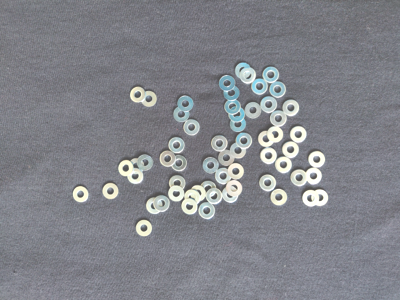circle: (135, 218, 153, 239), (127, 157, 146, 176), (271, 188, 290, 207), (258, 175, 278, 193), (177, 94, 195, 113), (172, 106, 191, 124), (145, 196, 163, 215), (301, 189, 319, 208), (290, 169, 308, 188), (304, 168, 323, 186), (307, 150, 326, 168), (141, 89, 158, 109), (183, 119, 201, 137), (127, 168, 145, 186), (198, 202, 216, 220), (235, 132, 253, 150), (289, 126, 307, 144), (269, 81, 287, 99), (137, 153, 154, 172), (154, 195, 171, 214), (211, 135, 230, 152), (311, 188, 328, 207), (275, 158, 294, 175), (269, 111, 288, 128), (130, 86, 147, 104), (222, 186, 239, 204), (218, 75, 236, 92), (283, 142, 300, 160), (257, 131, 275, 148), (267, 126, 284, 144), (282, 100, 300, 117), (261, 97, 278, 115), (245, 102, 263, 119), (222, 85, 241, 101), (235, 61, 251, 80), (169, 175, 186, 192), (184, 189, 201, 206), (203, 157, 220, 174), (230, 116, 247, 133), (260, 148, 277, 165), (72, 187, 90, 203), (103, 183, 119, 201), (160, 150, 176, 168), (181, 199, 199, 215), (190, 184, 206, 202), (200, 181, 216, 199), (216, 167, 232, 185), (230, 143, 248, 159), (225, 99, 243, 115), (167, 187, 186, 202), (118, 160, 134, 177), (172, 155, 188, 172), (169, 136, 185, 153), (206, 189, 223, 205), (229, 163, 245, 180), (218, 150, 235, 166), (228, 106, 245, 122), (252, 79, 269, 95), (240, 68, 256, 84), (263, 67, 279, 83), (226, 181, 243, 196)
